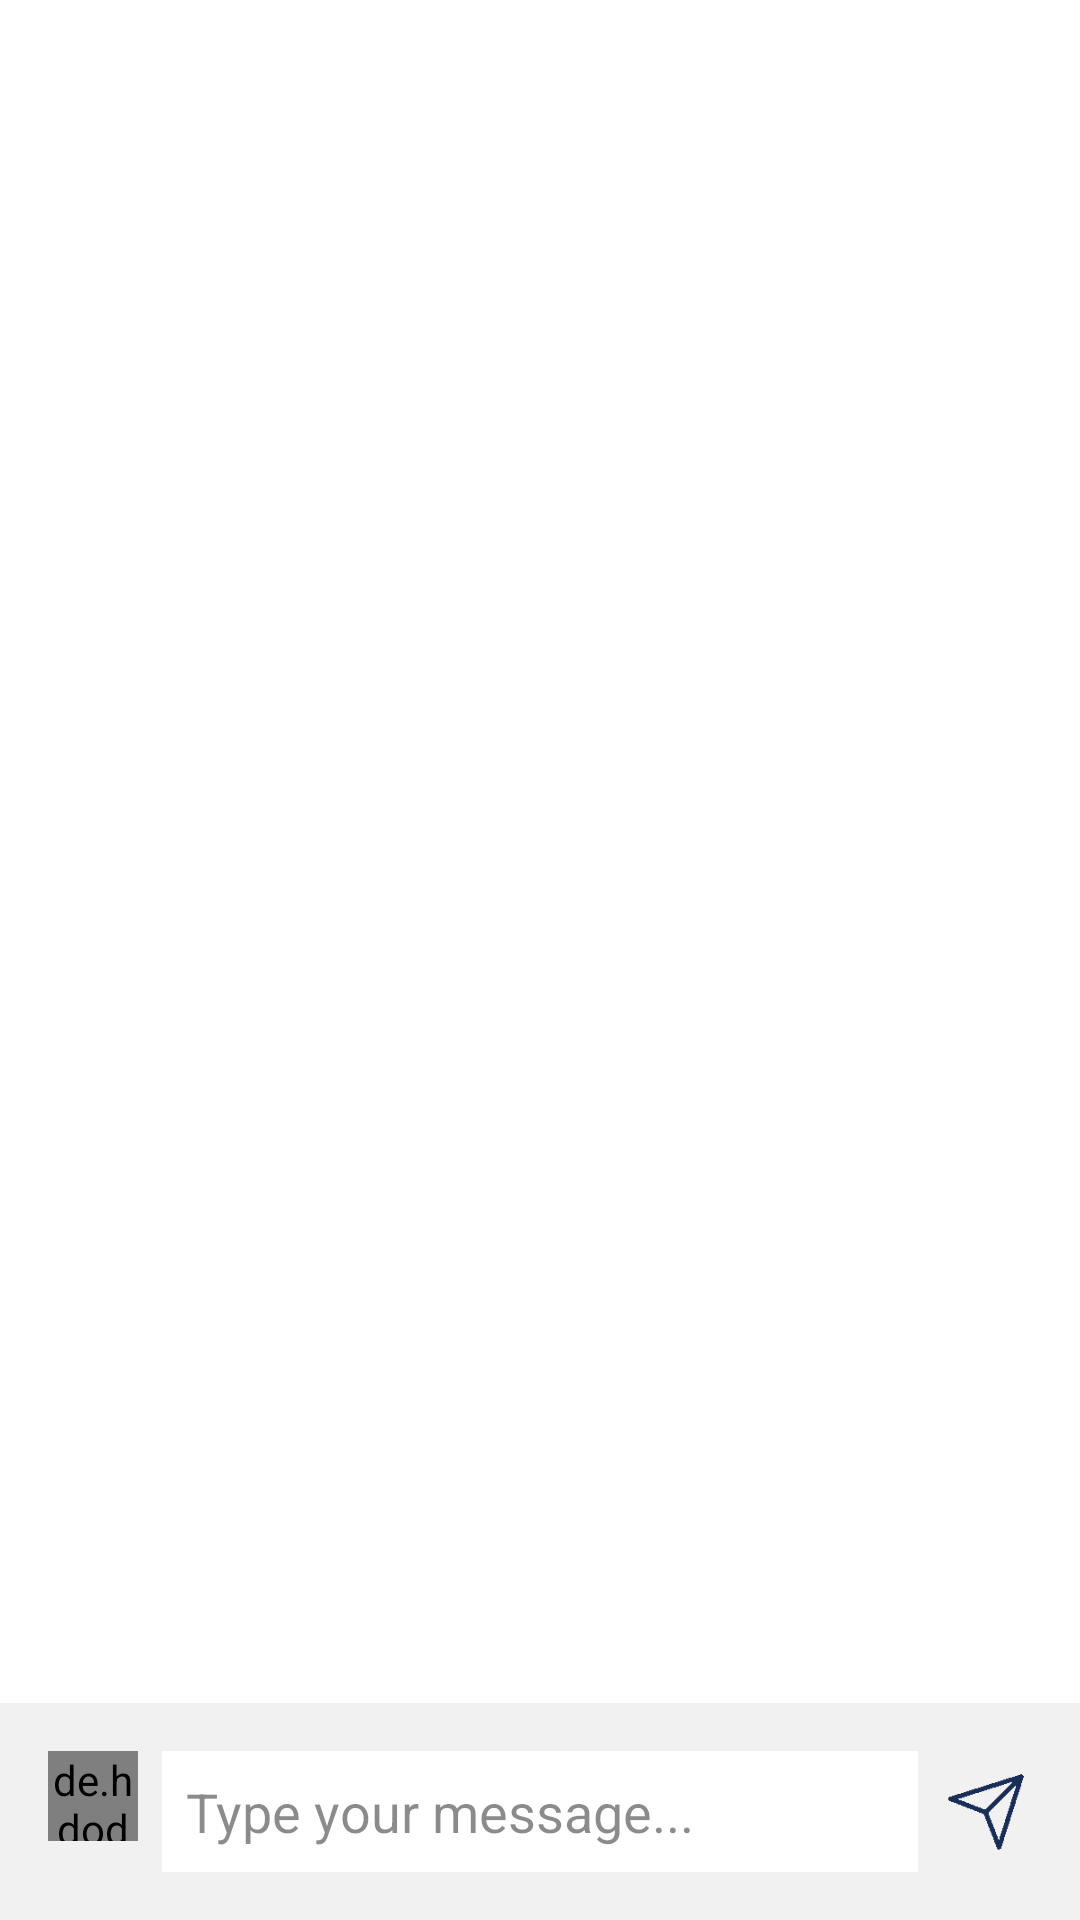

Where to tap for icons on this 1080×1920 app screen, as [x,y]:
send on edt: [986,1812]
